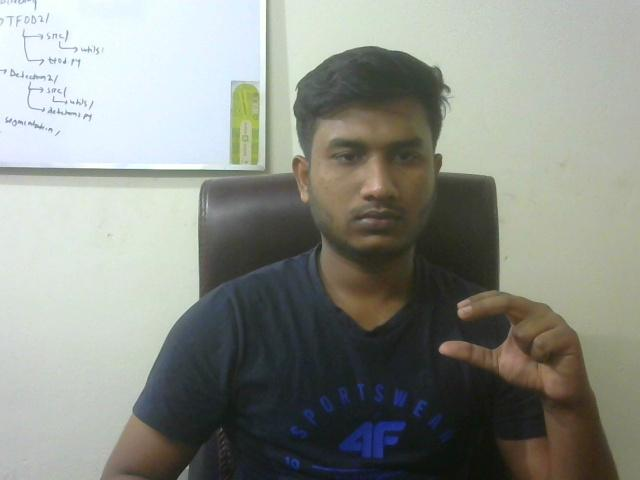No: (432, 269, 603, 421)
